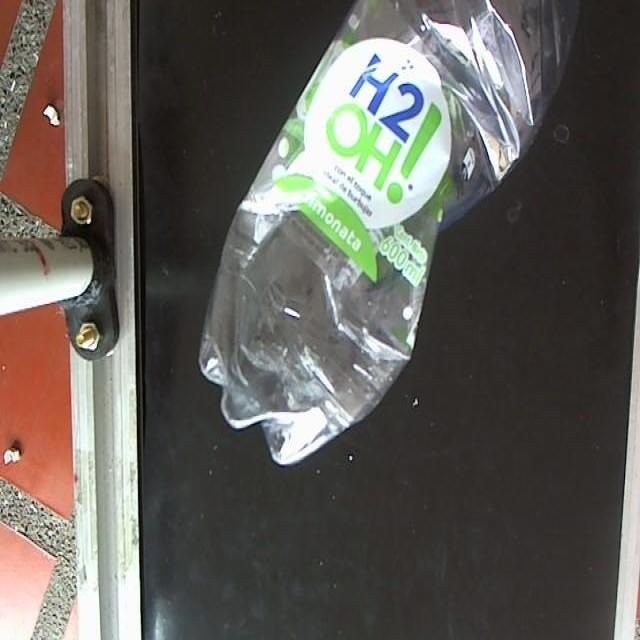defect: (194, 0, 586, 471)
